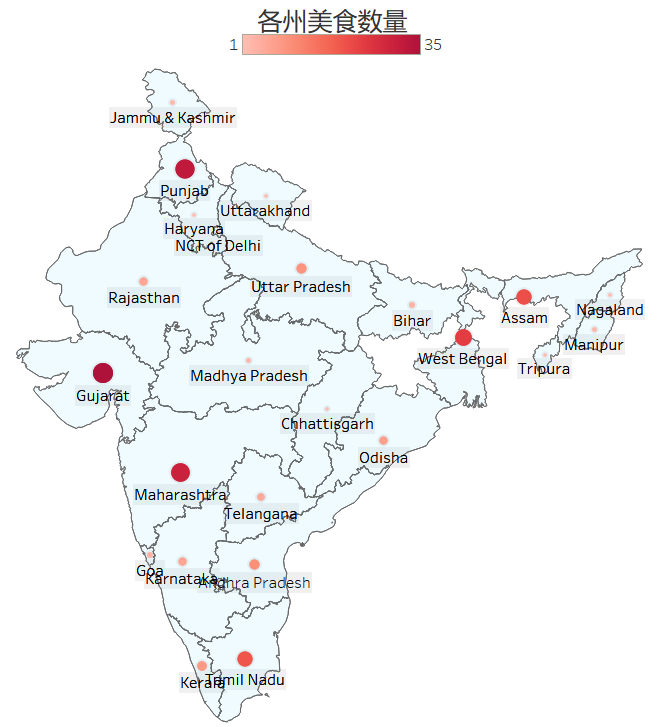

This screenshot's page, from the dashboard's own definition file:
{"tool":"tableau","page":{"name":"各州美食数量","canvas":[1000,800],"ordinal":1},"visuals":[{"type":"worksheet","title":"工作表 1 (2)","mark":"Automatic","box":[33,33,787,767]},{"type":"legend","title":"工作表 1 (2)","param":"[federated.1ia185u12301xa1ehuvfc1k5n9s5].[sum:state:qk]","box":[321,69,218,38]}]}

Visuals, with their boxes on the page's 1000x800 design canvas (x1, y1, x2, y2). These are canvas units, not pixel positions in the 658x727 screenshot, which may show the page scaled, cropped or inside an application window:
"工作表 1 (2)" worksheet: <bbox>33, 33, 820, 800</bbox>
"工作表 1 (2)" legend: <bbox>321, 69, 539, 107</bbox>
